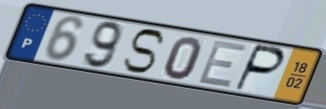0: (160, 34, 205, 82)
6: (41, 14, 88, 64)
9: (82, 20, 124, 71)
E: (195, 39, 250, 90)
P: (232, 43, 288, 94)
S: (121, 27, 168, 75)
